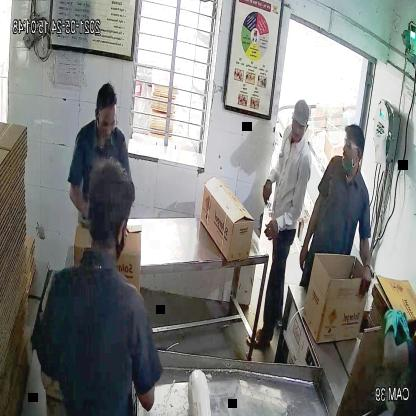goggles: (92, 115, 121, 136), (341, 135, 366, 156)
